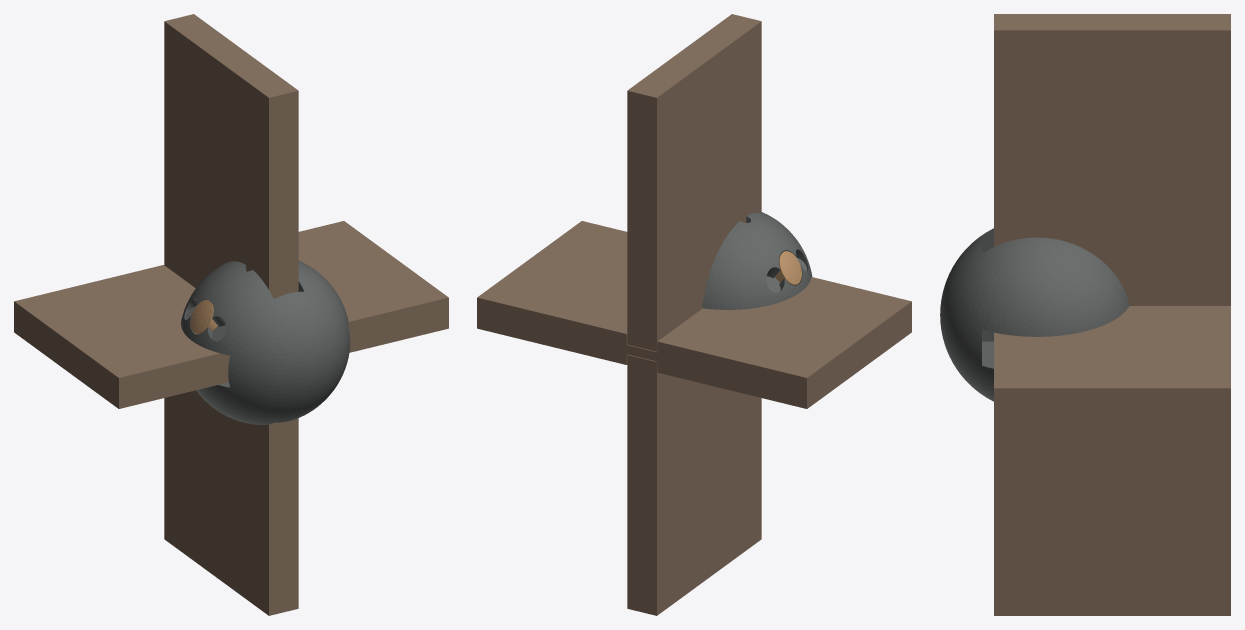
Rendered from sample-assembled.glb.
3 views of the same model, side by side, from view 1: azimuth 30°, elevation 25°; view 2: azimuth 150°, elevation 25°; view 3: azimuth 270°, elevation 25° (orthographic). The views are drawn at different scales.
Visible parts, largest first — view 1: partition-1, shelf-1, partition-0, sphere-inner-x600-1-front, key-inner-x600-1-front-1; view 2: shelf-1, partition-1, partition-0, sphere-inner-x600-1-front, key-inner-x600-1-front-1; view 3: partition-1, partition-0, shelf-1, sphere-inner-x600-1-front.
Part boxes in pixels (x1,y1,x2,y2): partition-1: (164, 14, 298, 298); shelf-1: (14, 221, 448, 408); partition-0: (164, 390, 298, 615); sphere-inner-x600-1-front: (181, 261, 350, 424); key-inner-x600-1-front-1: (190, 300, 217, 334); shelf-1: (477, 221, 911, 408); partition-1: (627, 14, 761, 351); partition-0: (627, 354, 761, 615); sphere-inner-x600-1-front: (702, 212, 812, 309); key-inner-x600-1-front-1: (775, 251, 801, 285); partition-1: (994, 14, 1230, 305); partition-0: (994, 423, 1230, 615); shelf-1: (994, 306, 1230, 423); sphere-inner-x600-1-front: (940, 228, 1129, 401).
Bounding box in the file's own units: 0.2 × 0.3 × 0.135.
